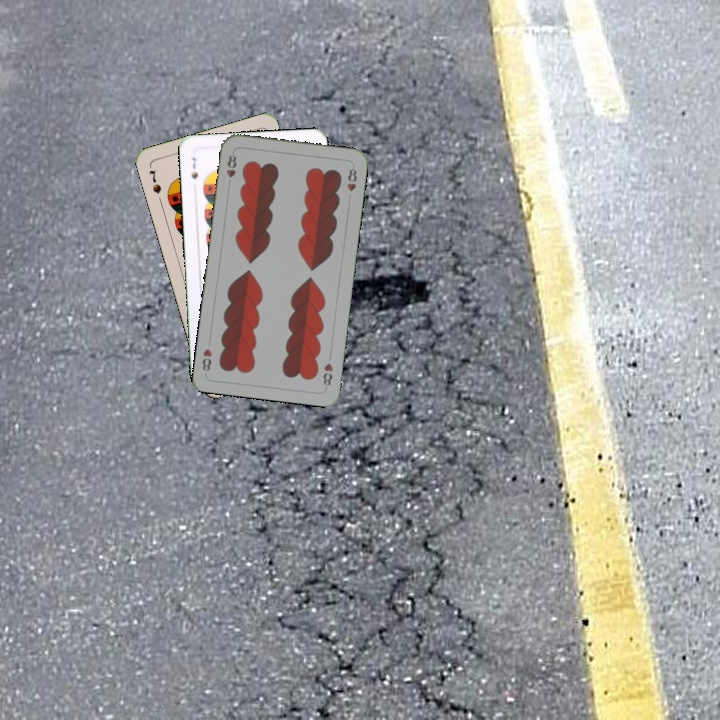H8: (319, 359, 336, 390), (222, 151, 239, 180)
S7: (145, 166, 164, 196), (187, 153, 200, 182)
